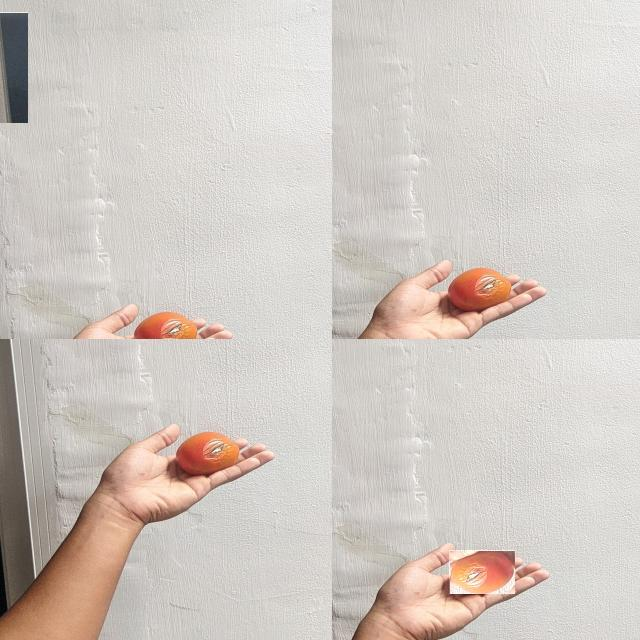Fresh Tomato: (0, 12, 28, 123)
Rotten Tomato: (449, 550, 515, 594)
